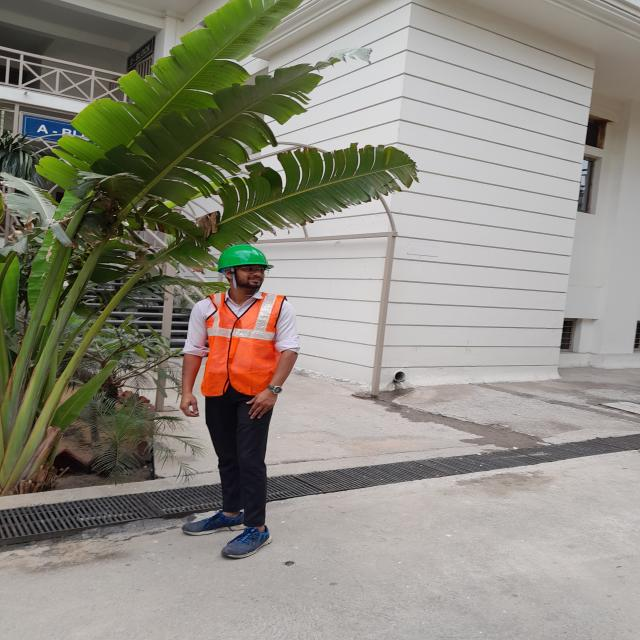safe: (181, 246, 299, 556)
